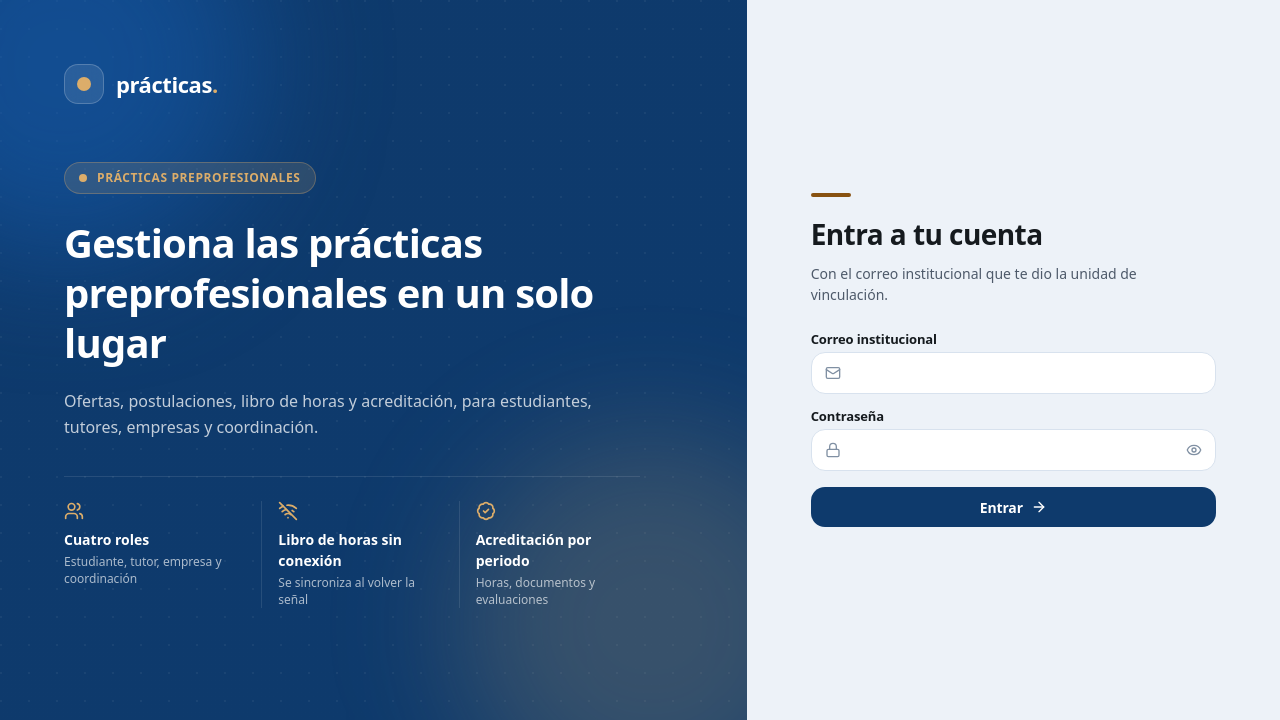
Test case: LoginPage › muestra el mensaje de error de ApiError si falla el inicio de sesión
The image size is (1280, 720).
In the field labelled "Correo institucional": (1013, 373) [811, 352, 1216, 394], type "user@miyura.com"
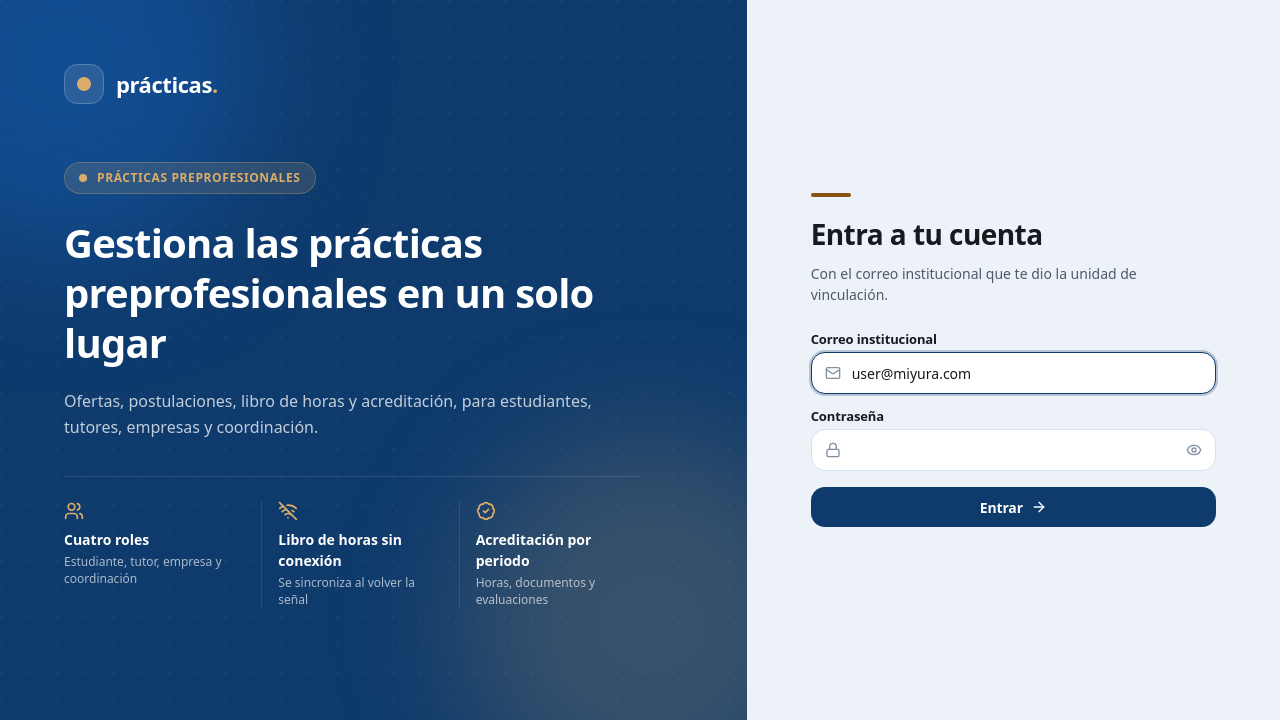
In the password field labelled "Contraseña": (1013, 450) [811, 429, 1216, 471], type "wrongpass"
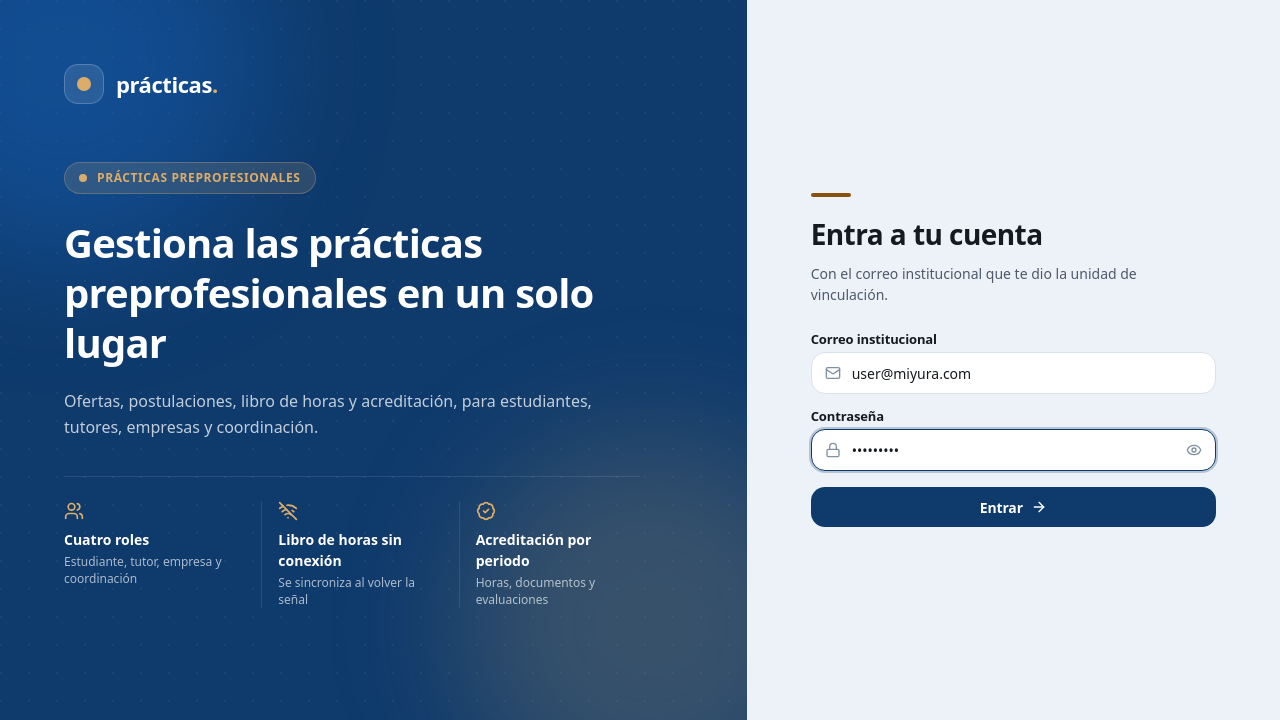
Click the button "Entrar": (1013, 507) [811, 487, 1216, 527]
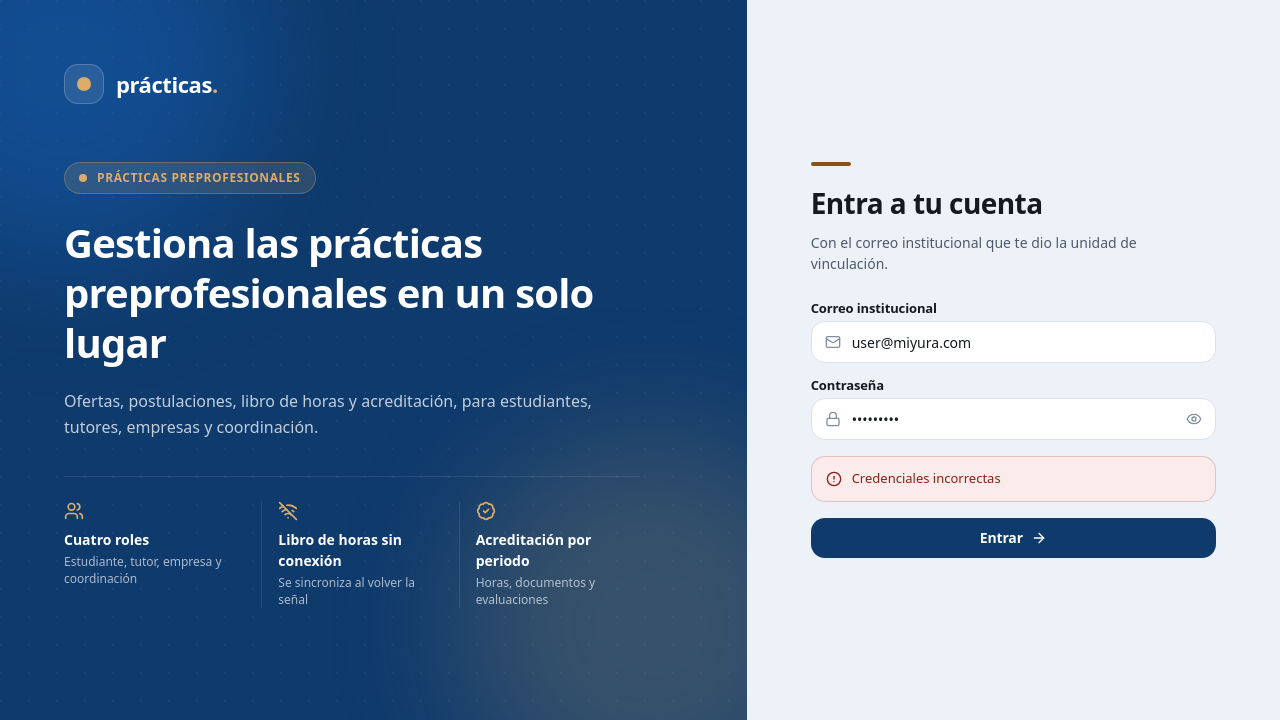
Expected: the message reads "Credenciales incorrectas", [852, 469, 1001, 487]
